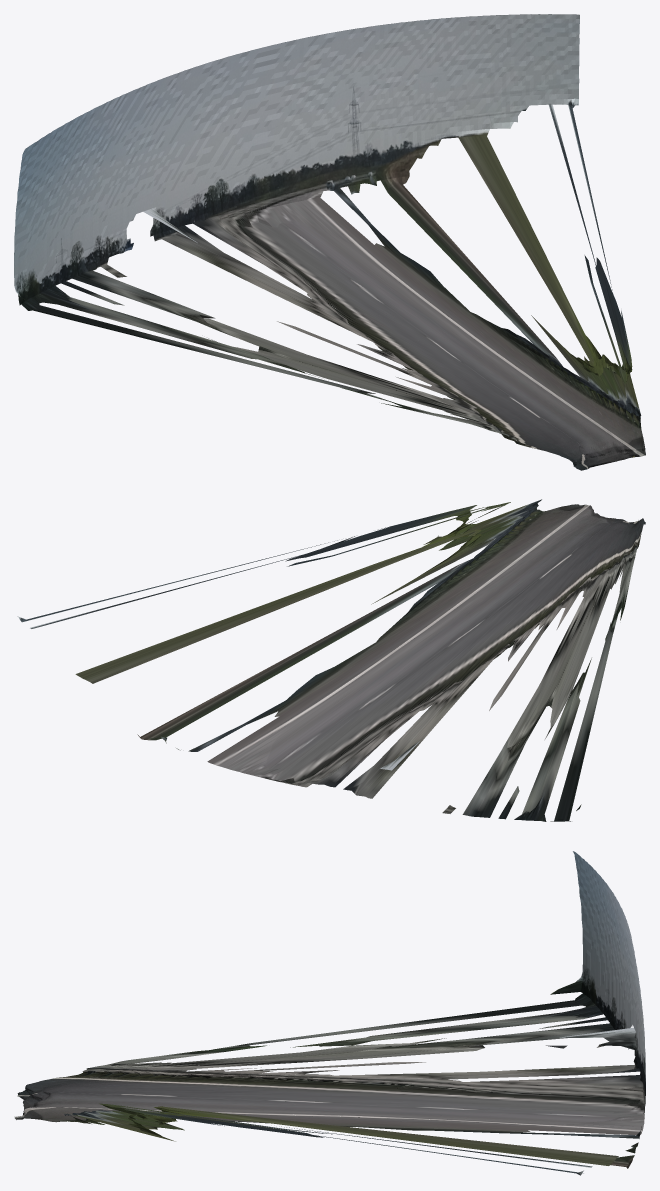
3 views of the same model, one above another, from view 1: azimuth 30°, elevation 25°; view 2: azimuth 150°, elevation 25°; view 3: azimuth 270°, elevation 25° (orthographic). The views are drawn at different scales.
Parts seen in each view (by area): view 1: defaultobject; view 2: defaultobject; view 3: defaultobject.
Boxes of the visible parts, box(x1,y1,x2,y2) form: defaultobject: box(14, 14, 645, 470); defaultobject: box(17, 499, 645, 821); defaultobject: box(14, 851, 645, 1175).
Size of the model in its own units: 41.11 by 12.27 by 44.8.
Materials: 1 (1 with a texture image).
